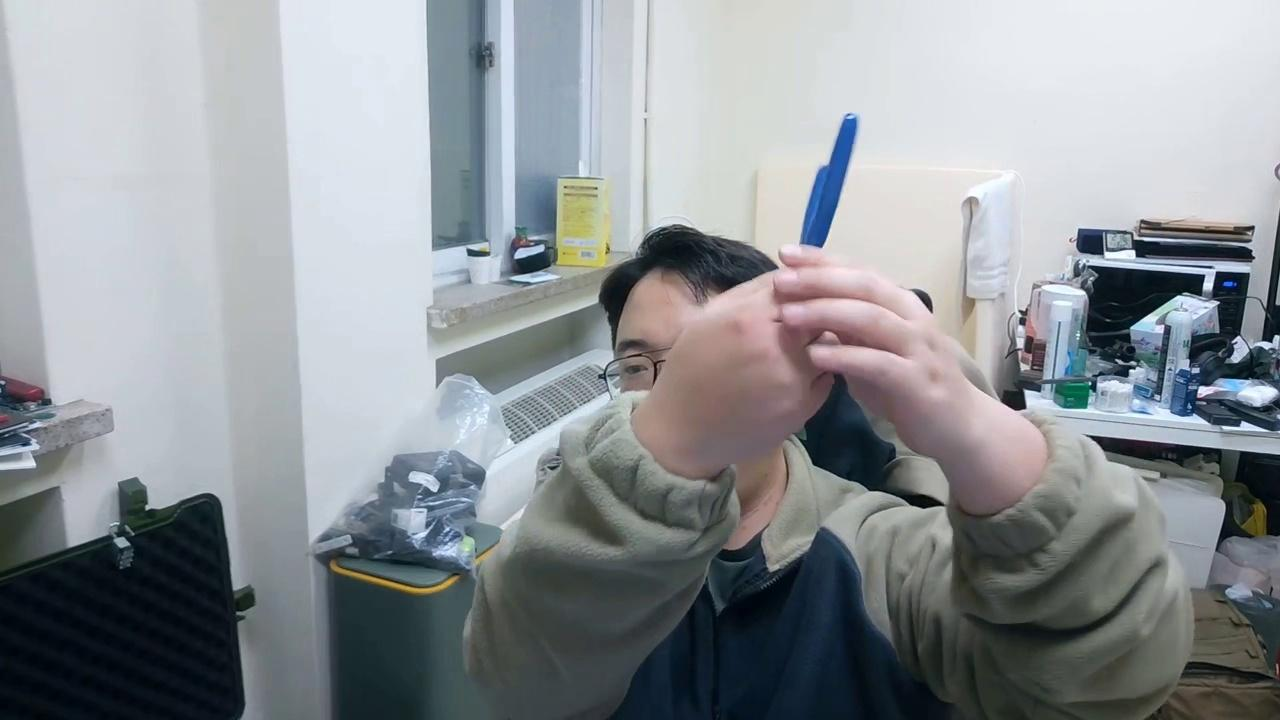blue_pliers: (798, 111, 862, 250)
